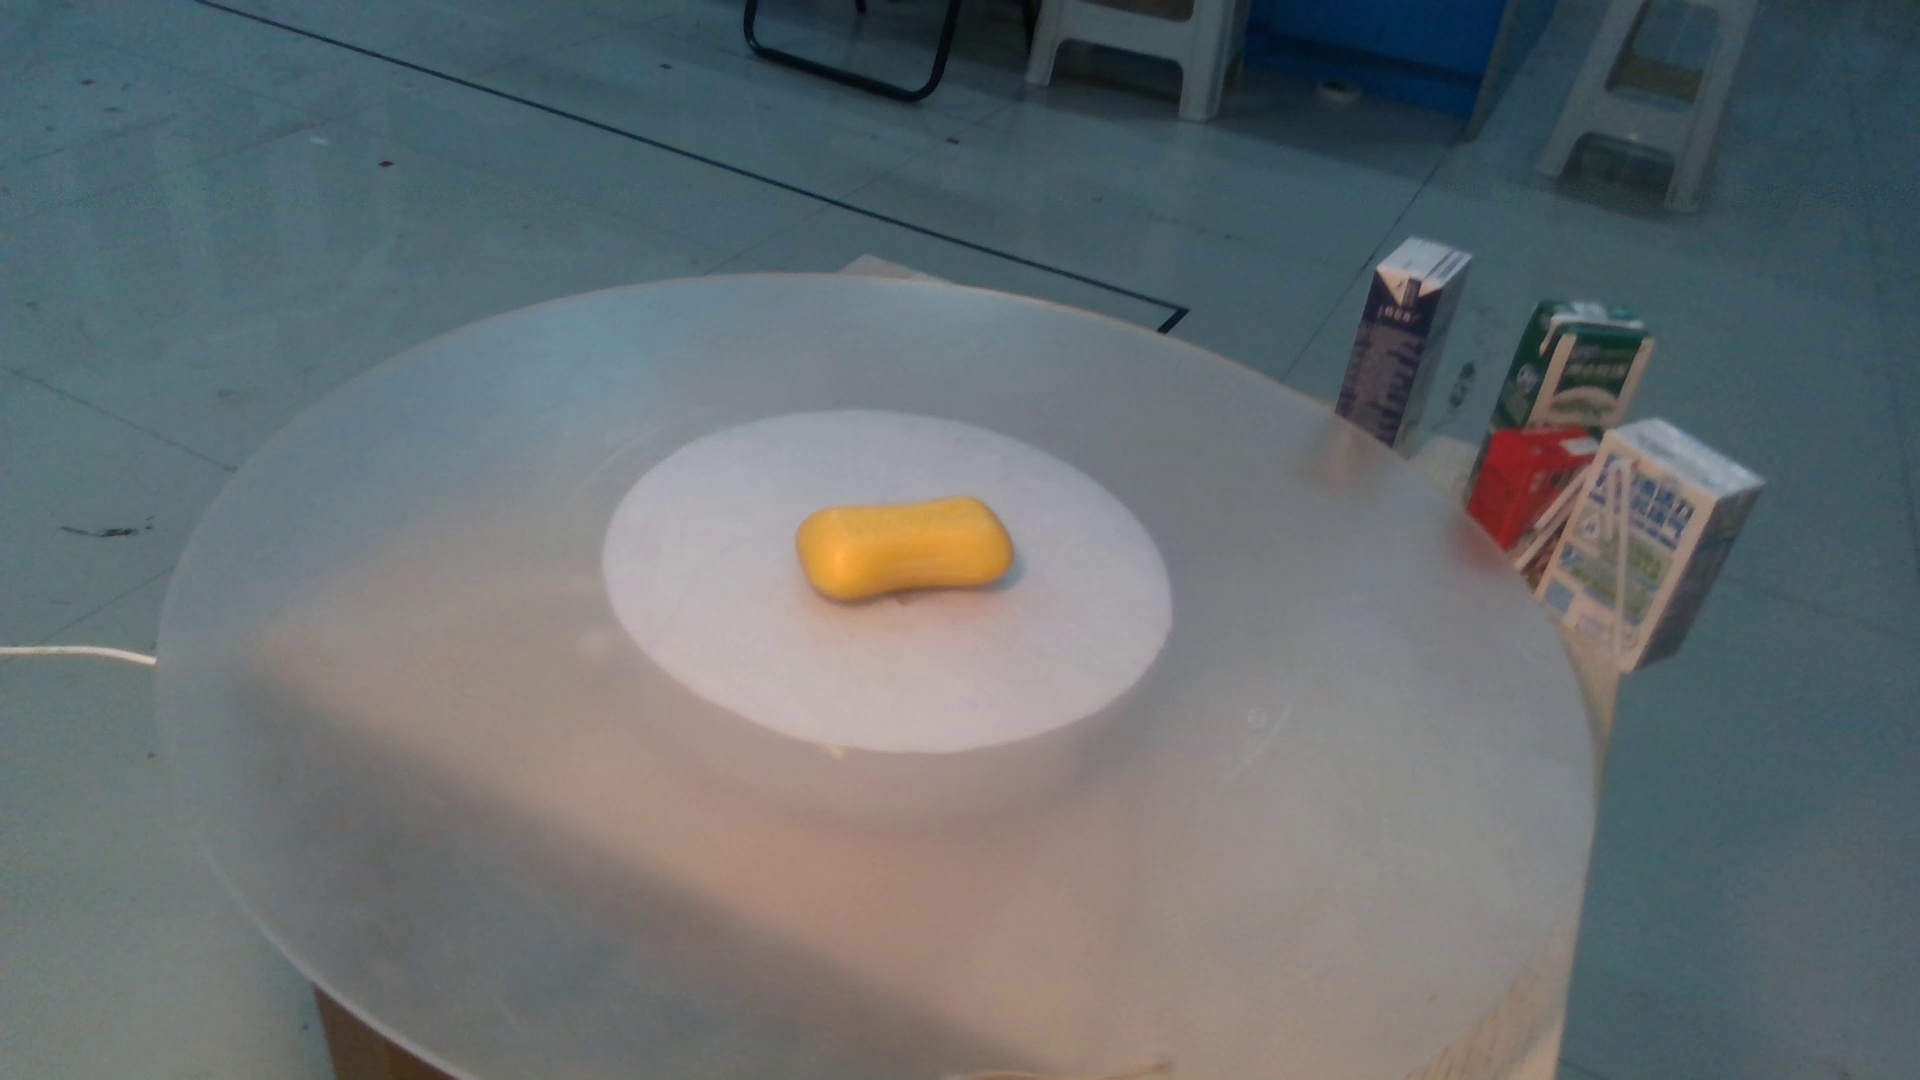CA003_1: (771, 458, 1029, 636)
